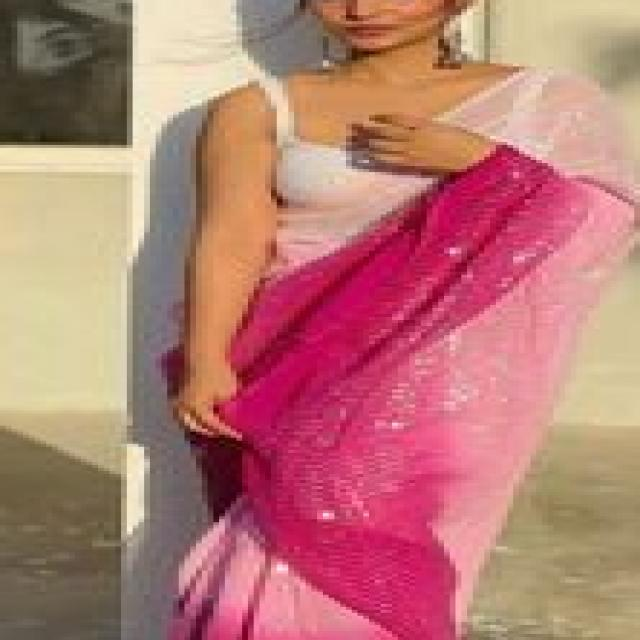Saree: (121, 60, 640, 640)
